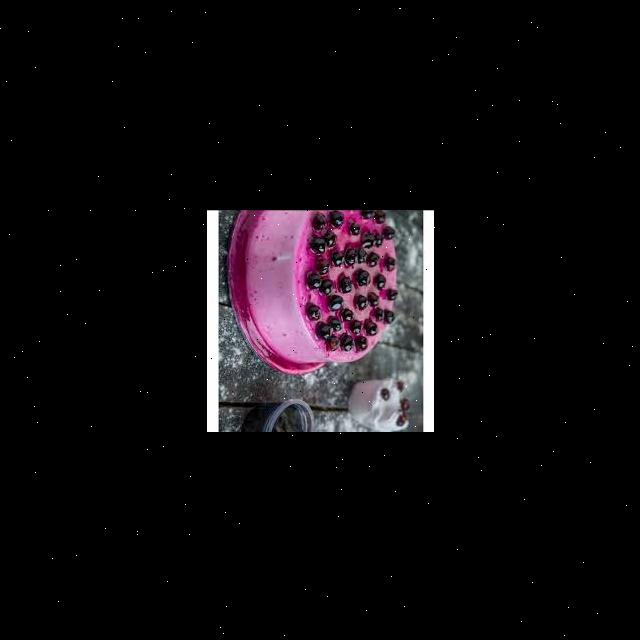grape: (304, 209, 398, 351)
